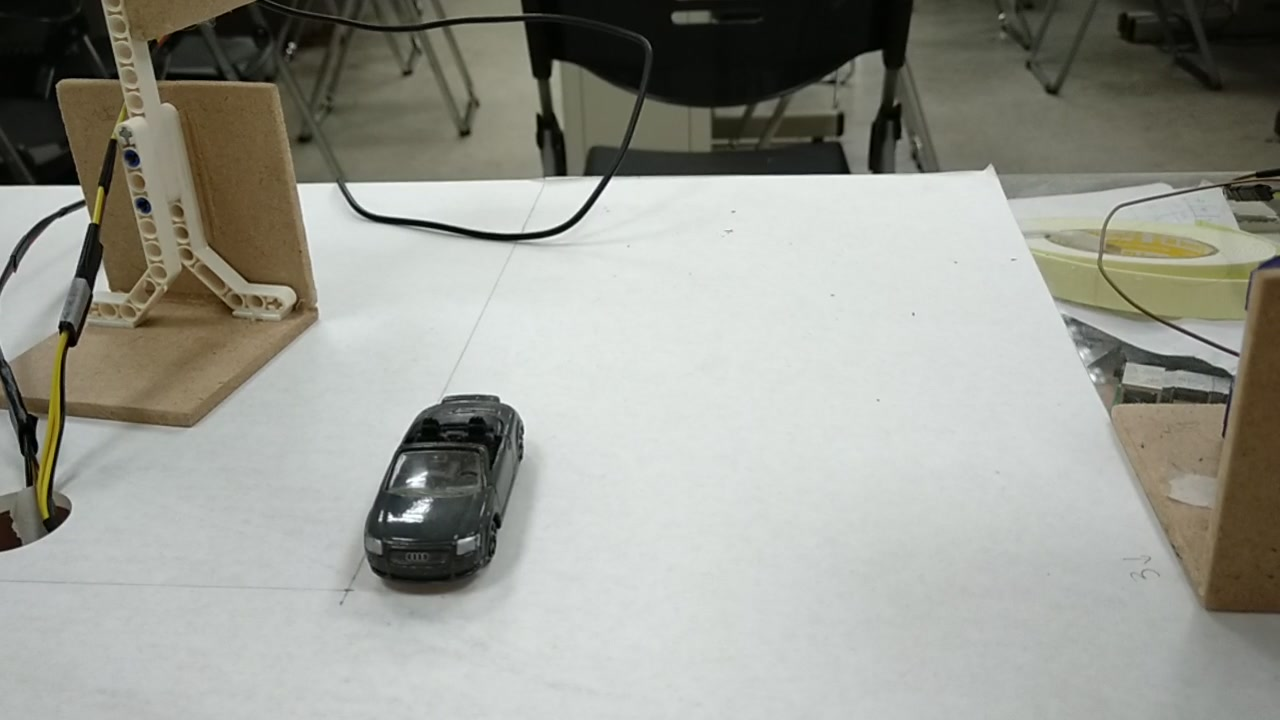car: (366, 397, 534, 588)
